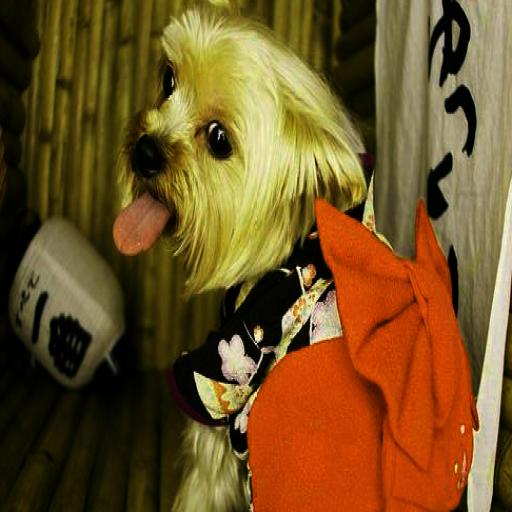dog_face: (121, 17, 298, 266)
